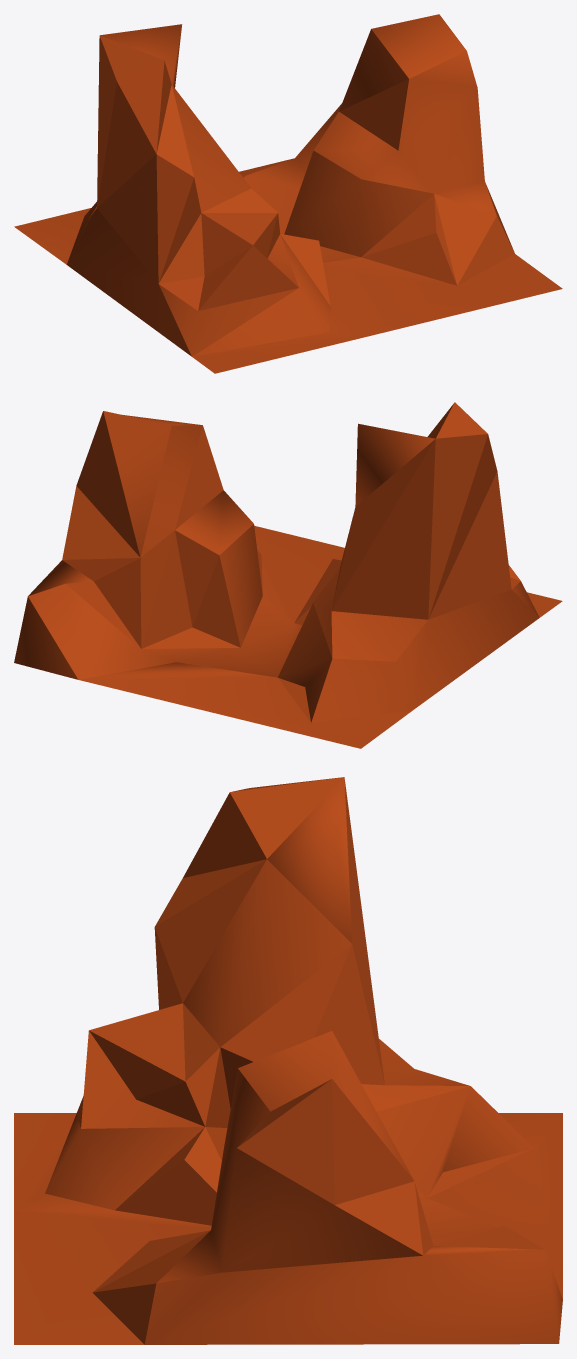
Rendered from Mountain_desert_004.glb.
3 views of the same model, one above another, from view 1: azimuth 30°, elevation 25°; view 2: azimuth 150°, elevation 25°; view 3: azimuth 270°, elevation 25° (orthographic). The views are drawn at different scales.
Parts seen in each view (by area): view 1: Mountain_desert_004; view 2: Mountain_desert_004; view 3: Mountain_desert_004.
Part boxes in pixels (bbox=[...]): Mountain_desert_004: bbox=[14, 14, 562, 373]; Mountain_desert_004: bbox=[14, 402, 562, 748]; Mountain_desert_004: bbox=[14, 777, 562, 1344].
Size of the model in its own units: 25 by 15.83 by 23.
1 material, 1 textured.
